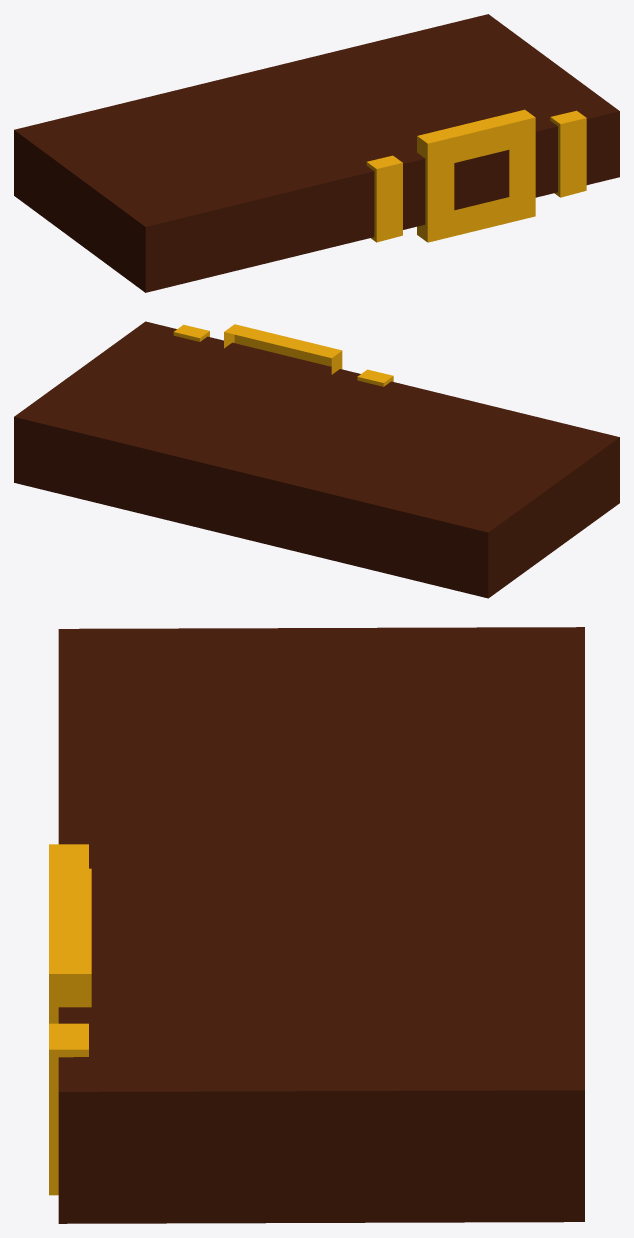
Rendered from Belt 05.FBX.
3 views of the same model, one above another, from view 1: azimuth 30°, elevation 25°; view 2: azimuth 150°, elevation 25°; view 3: azimuth 270°, elevation 25° (orthographic). The views are drawn at different scales.
Visible parts, largest first — view 1: Belt 05; view 2: Belt 05; view 3: Belt 05.
Boxes of the visible parts, bbox=[...] form: Belt 05: bbox=[14, 14, 619, 292]; Belt 05: bbox=[14, 321, 619, 598]; Belt 05: bbox=[49, 627, 584, 1223].
Bounding box in the file's own units: 50.19 × 10 × 24.54.
1 material, 1 textured.
